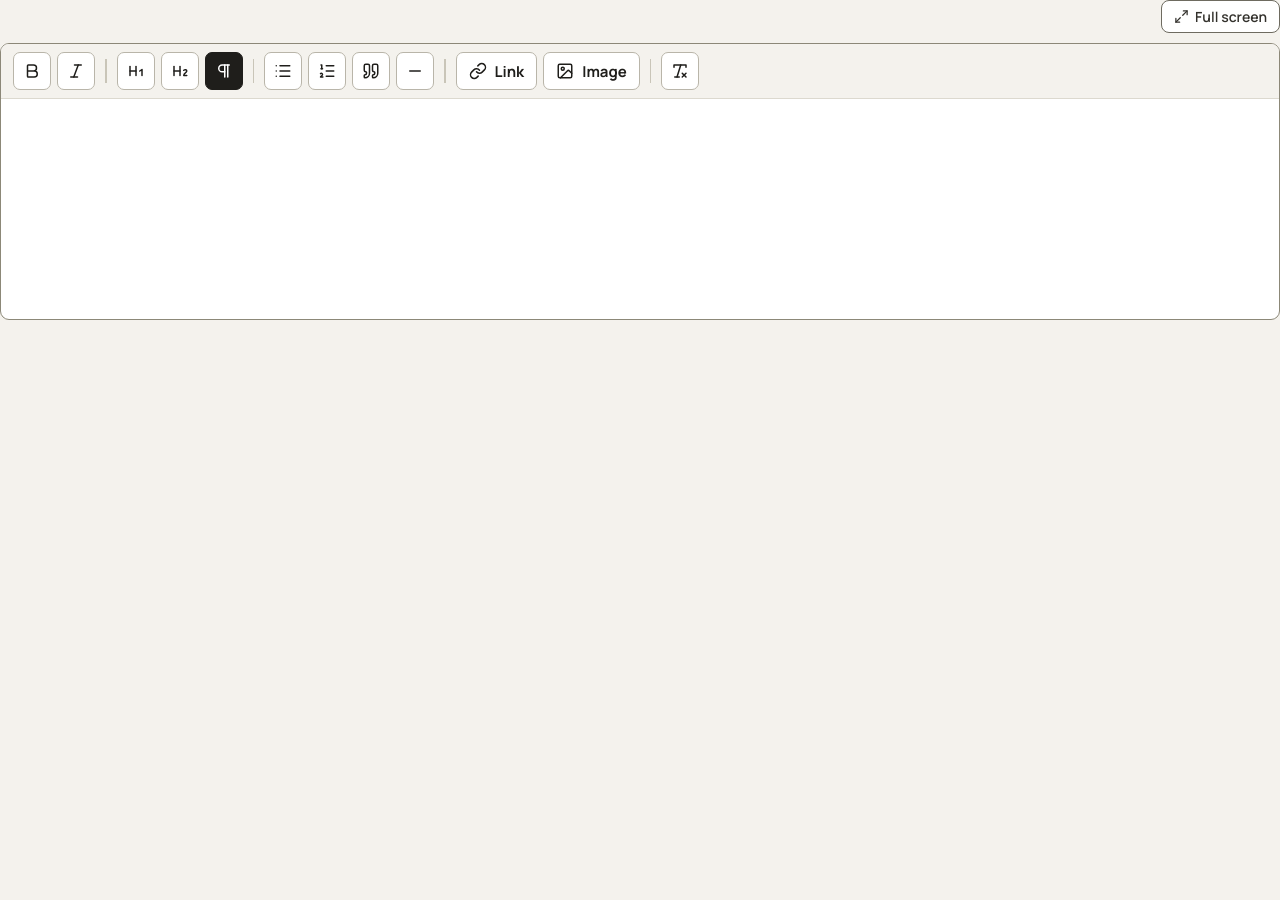
Test: RichtextEditor full screen › closes on Escape
This screenshot has width=1280, height=900.
Expected: the button titled "Bold" is shown, [13,52,51,90]
Click the button "Full screen": {"x": 1221, "y": 16} [1161,0,1279,33]
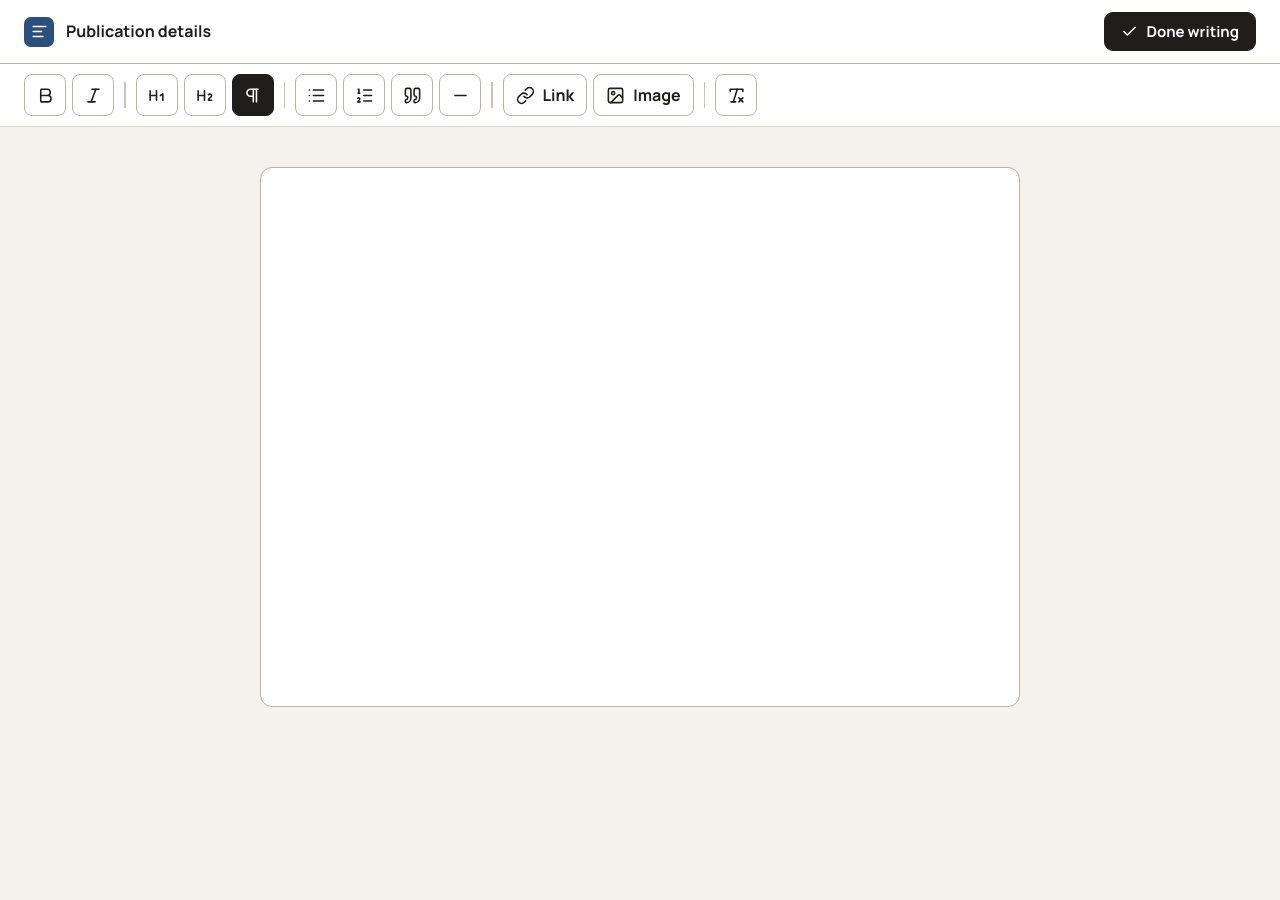
Expected: the dialog is shown
Press Escape
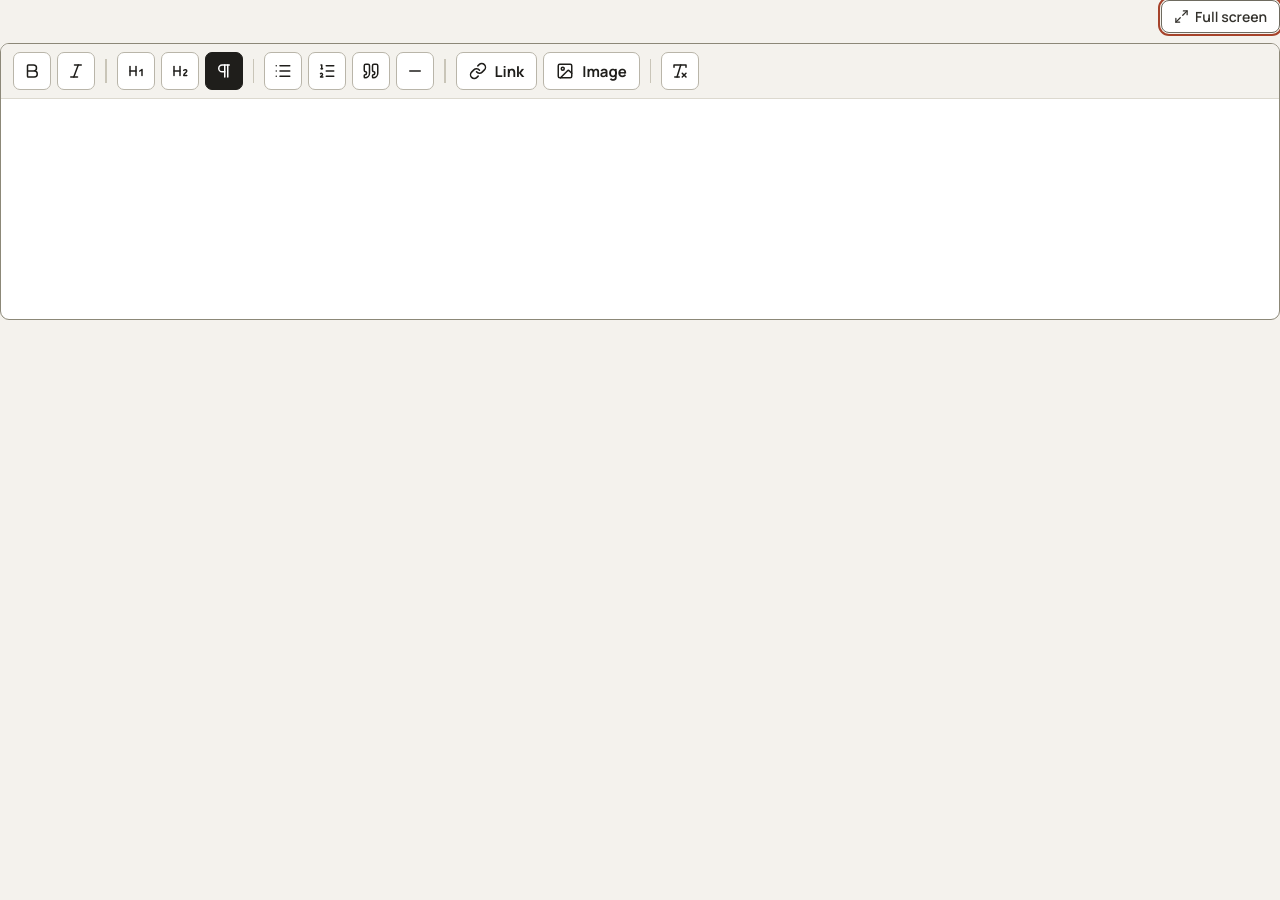
Expected: the dialog is gone
